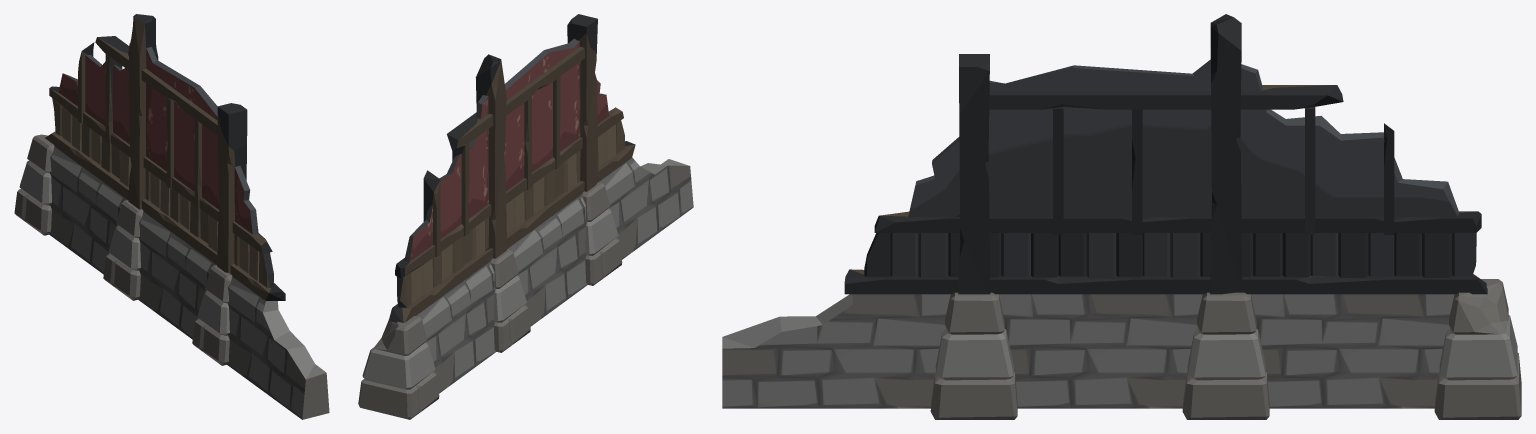
The model's file is SM_Prop_Destroyed_House_Piece_04_Burnt.fbx.
3 renders of one model, left to right at view 1: azimuth 30°, elevation 25°; view 2: azimuth 150°, elevation 25°; view 3: azimuth 270°, elevation 25°, orthographic. The views are drawn at different scales.
Visible parts, largest first — view 1: SM_Prop_Destroyed_House_Piece_04_Burnt; view 2: SM_Prop_Destroyed_House_Piece_04_Burnt; view 3: SM_Prop_Destroyed_House_Piece_04_Burnt.
Boxes of the visible parts, bbox=[...] form: SM_Prop_Destroyed_House_Piece_04_Burnt: bbox=[14, 14, 329, 419]; SM_Prop_Destroyed_House_Piece_04_Burnt: bbox=[358, 14, 693, 419]; SM_Prop_Destroyed_House_Piece_04_Burnt: bbox=[722, 14, 1521, 419].
Size of the model in its own units: 85.25 by 420 by 793.
1 material, 1 textured.
